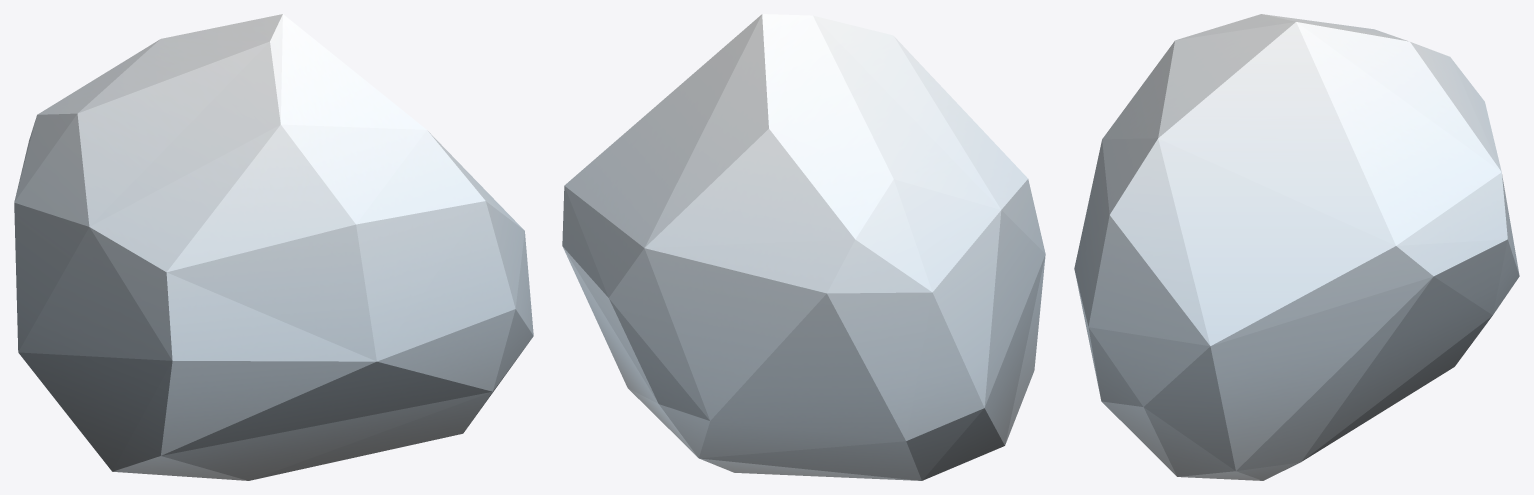
The model's file is Snowy_Stone_001.FBX.
3 renders of one model, left to right at view 1: azimuth 30°, elevation 25°; view 2: azimuth 150°, elevation 25°; view 3: azimuth 270°, elevation 25°, orthographic. The views are drawn at different scales.
Parts seen in each view (by area): view 1: Snowy_Stone_001; view 2: Snowy_Stone_001; view 3: Snowy_Stone_001.
Boxes of the visible parts, left/top/right/bottom form: Snowy_Stone_001: left=14, top=14, right=533, bottom=480; Snowy_Stone_001: left=562, top=14, right=1045, bottom=480; Snowy_Stone_001: left=1074, top=14, right=1519, bottom=480.
Size of the model in its own units: 160 by 150 by 143.
1 material, 1 textured.
